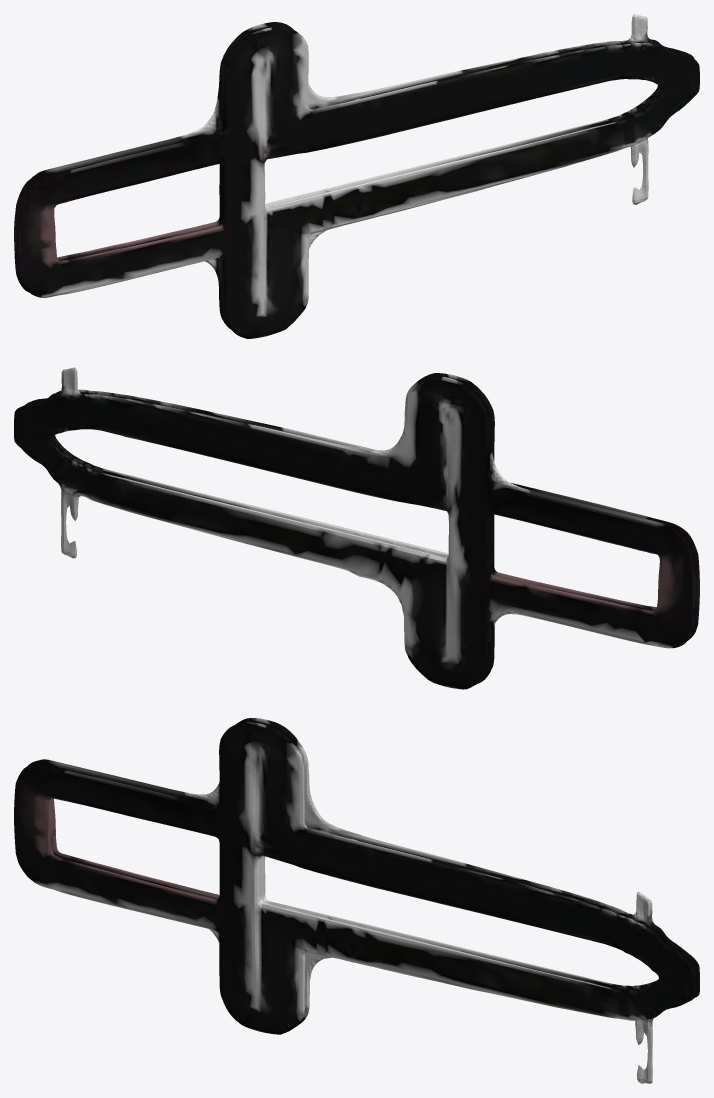
Rendered from t_dagger.glb.
3 views of the same model, one above another, from view 1: azimuth 30°, elevation 25°; view 2: azimuth 150°, elevation 25°; view 3: azimuth 330°, elevation 25° (orthographic).
Visible parts, largest first — view 1: geometry_0; view 2: geometry_0; view 3: geometry_0.
Part boxes in pixels (left/top/right/bottom): geometry_0: left=14, top=14, right=699, bottom=338; geometry_0: left=14, top=367, right=699, bottom=689; geometry_0: left=14, top=718, right=699, bottom=1083.
Size of the model in its own units: 0.7202 by 0.3125 by 0.0194.
